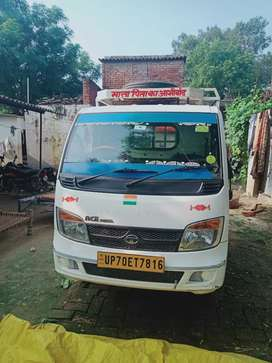UP70ET7816: (97, 252, 165, 274)
